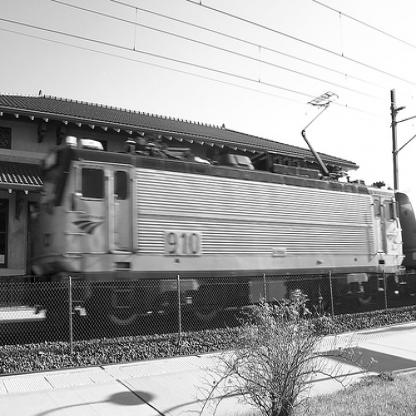train: (31, 132, 403, 324)
